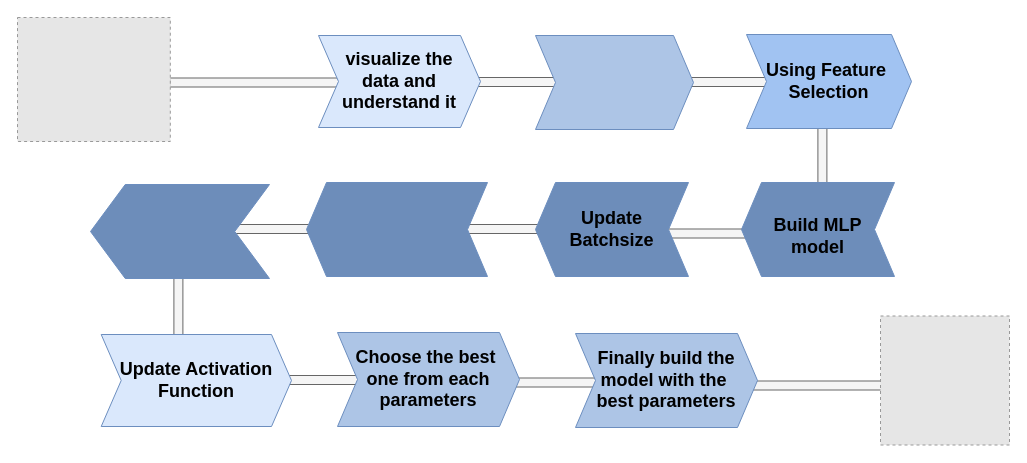
Some shapes in this 1027 by 463 pixel diagram are drawn without their labels. Grey dashed boxes stand in for pictures. The shapes that lost their labels are listed below. From the top down, each one's centre as x and y in pixels, then its label:
(614,82): Prepare the data
(180,231): Update Learning Rate
(397,229): Edit Hidden \ Neuron layers
